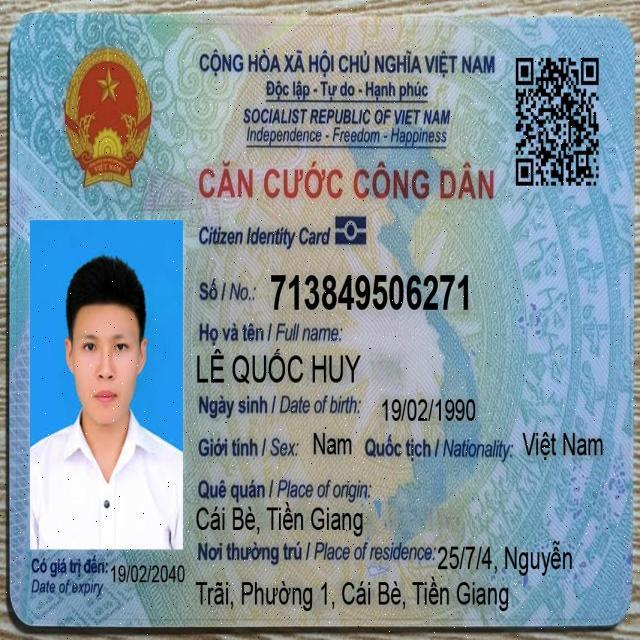current_place: (193, 574, 511, 616), (436, 537, 574, 579)
dob: (379, 393, 478, 427)
expire_date: (109, 560, 186, 587)
gender: (310, 426, 355, 462)
id: (264, 267, 477, 317)
name: (194, 345, 364, 389)
nationality: (519, 427, 606, 466)
origin_place: (193, 499, 366, 540)
qr: (510, 49, 602, 192)
